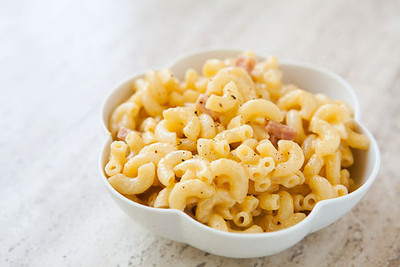macncheese: (104, 56, 367, 233)
